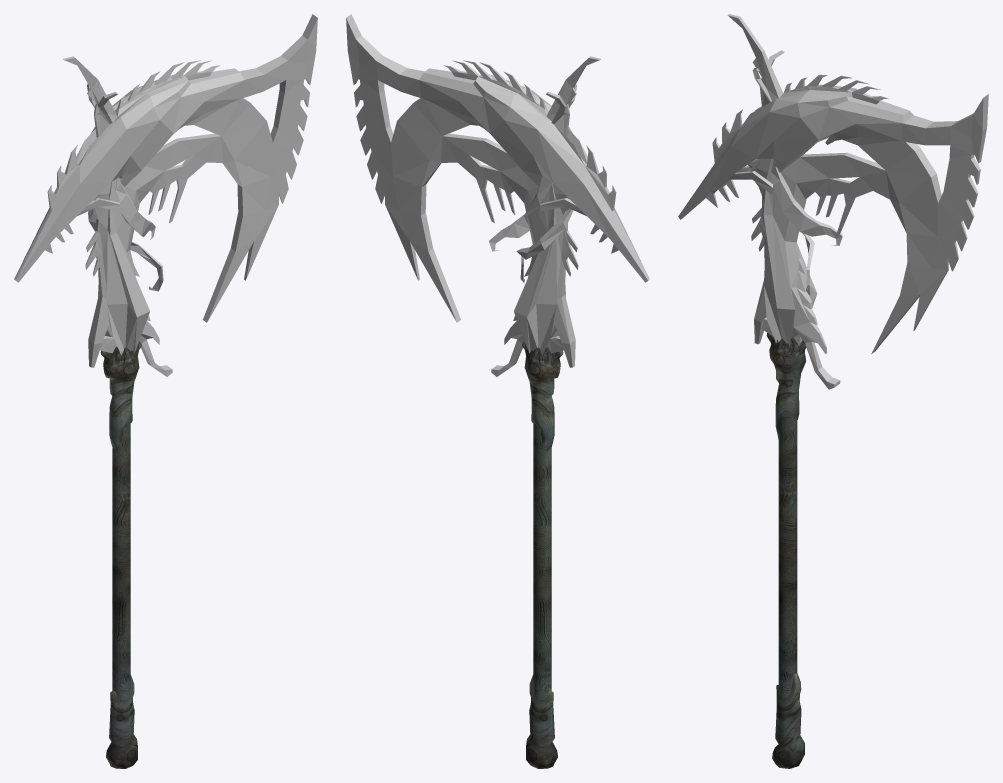
File: arbiter.obj
3 renders of one model, left to right at view 1: azimuth 30°, elevation 25°; view 2: azimuth 150°, elevation 25°; view 3: azimuth 330°, elevation 25°, orthographic. The views are drawn at different scales.
Visible parts, largest first — view 1: rdmobj00_001, rdmobj00; view 2: rdmobj00_001, rdmobj00; view 3: rdmobj00_001, rdmobj00.
Part boxes in pixels (<box>): rdmobj00_001: <box>14,14,317,376</box>; rdmobj00: <box>100,341,141,768</box>; rdmobj00_001: <box>346,14,649,376</box>; rdmobj00: <box>522,341,563,768</box>; rdmobj00_001: <box>678,14,988,389</box>; rdmobj00: <box>766,333,806,768</box>.
Bounding box in the file's own units: 2.29 × 5.27 × 0.347.
